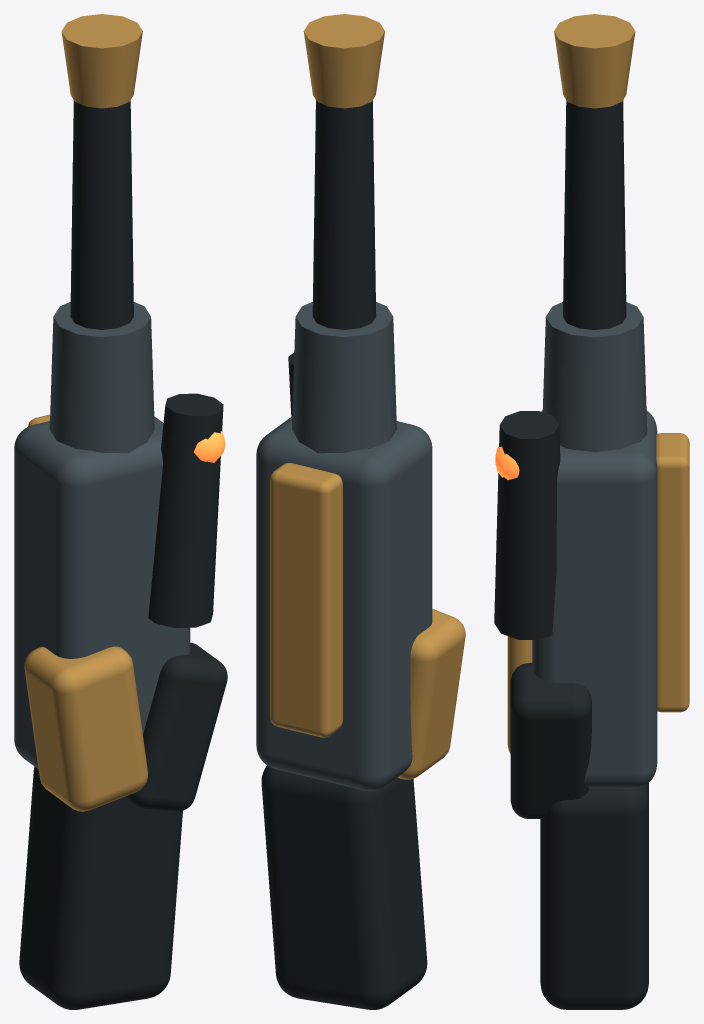
File: weapon_rifle.glb
The picture shows the model from 3 angles, left to right: view 1: azimuth 30°, elevation 25°; view 2: azimuth 150°, elevation 25°; view 3: azimuth 270°, elevation 25°; orthographic projection.
Parts seen in each view (by area): view 1: blade_mesh, rifle_stock, rifle_magazine, rifle_barrel, rifle_underslung_igniter, rifle_barrel_shroud, weapon_grip, rifle_muzzle_brake, weapon_rune; view 2: blade_mesh, rifle_stock, rifle_upper_rail, rifle_barrel, rifle_barrel_shroud, rifle_magazine, rifle_muzzle_brake; view 3: blade_mesh, rifle_stock, rifle_barrel, rifle_underslung_igniter, rifle_barrel_shroud, weapon_grip, rifle_upper_rail, rifle_muzzle_brake, rifle_magazine, weapon_rune.
Part boxes in pixels (<box>): blade_mesh: <box>14,416,190,768</box>; rifle_stock: <box>19,766,182,1009</box>; rifle_magazine: <box>24,646,147,811</box>; rifle_barrel: <box>70,100,133,329</box>; rifle_underslung_igniter: <box>148,393,223,627</box>; rifle_barrel_shroud: <box>49,302,154,453</box>; weapon_grip: <box>125,642,227,811</box>; rifle_muzzle_brake: <box>61,14,142,108</box>; weapon_rune: <box>194,431,225,462</box>; blade_mesh: <box>256,416,432,791</box>; rifle_stock: <box>261,765,427,1009</box>; rifle_upper_rail: <box>270,463,342,737</box>; rifle_barrel: <box>312,100,376,329</box>; rifle_barrel_shroud: <box>292,302,396,453</box>; rifle_magazine: <box>398,609,465,779</box>; rifle_muzzle_brake: <box>303,14,384,108</box>; blade_mesh: <box>532,410,657,788</box>; rifle_stock: <box>540,783,648,1009</box>; rifle_barrel: <box>563,100,626,329</box>; rifle_underslung_igniter: <box>494,411,560,639</box>; rifle_barrel_shroud: <box>542,302,647,452</box>; weapon_grip: <box>510,663,591,818</box>; rifle_upper_rail: <box>656,433,689,712</box>; rifle_muzzle_brake: <box>554,14,635,108</box>; rifle_magazine: <box>507,636,532,753</box>; weapon_rune: <box>495,446,519,479</box>.
Size of the model in its own units: 0.3726 by 1.96 by 0.36.
